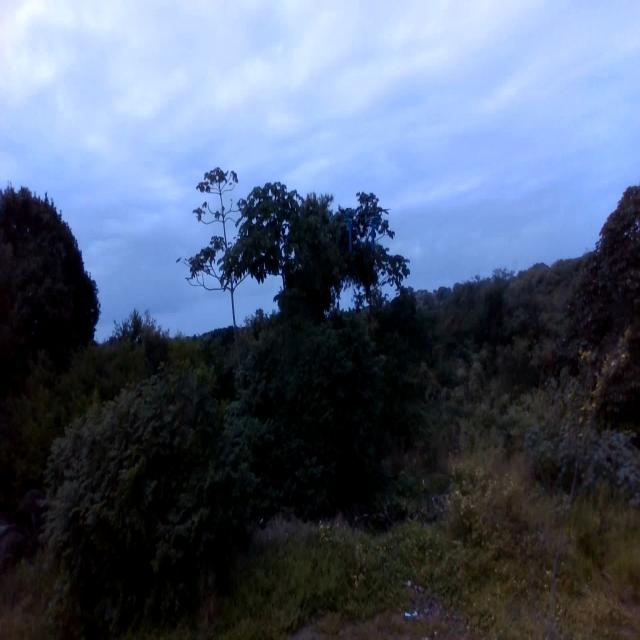-uav-: (340, 202, 384, 259)
